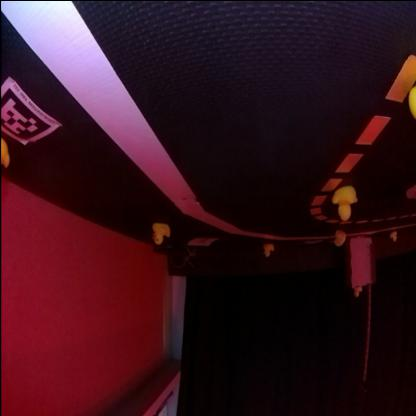Duckie: (332, 188, 356, 218), (152, 224, 170, 244), (334, 230, 346, 247), (264, 244, 274, 256), (391, 232, 397, 242), (354, 289, 360, 297)
QR code: (3, 78, 56, 144)
